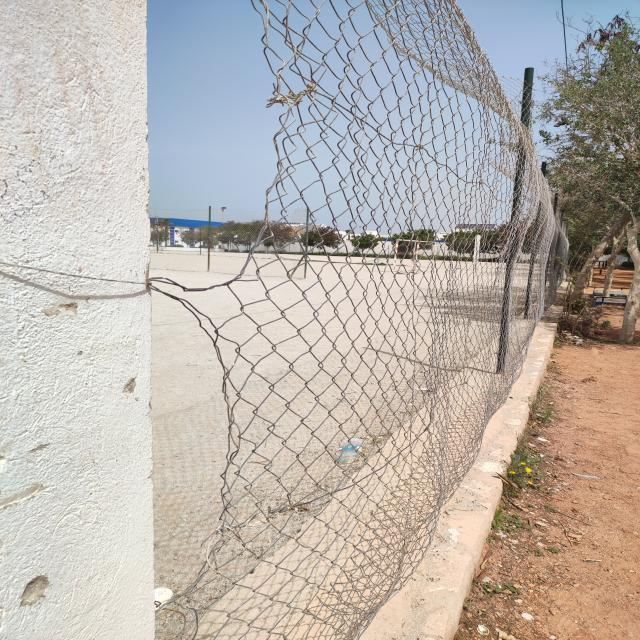fence line: (148, 3, 296, 265), (148, 304, 229, 581)
